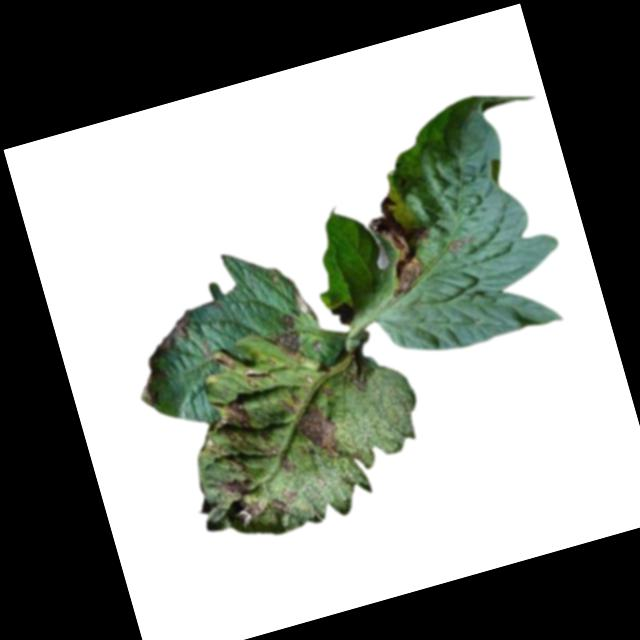Early_blight: (362, 185, 447, 303), (278, 385, 347, 470), (211, 453, 272, 532), (209, 394, 265, 451), (152, 309, 200, 355), (266, 313, 305, 363), (341, 350, 376, 394), (269, 485, 299, 518), (444, 234, 477, 254)
